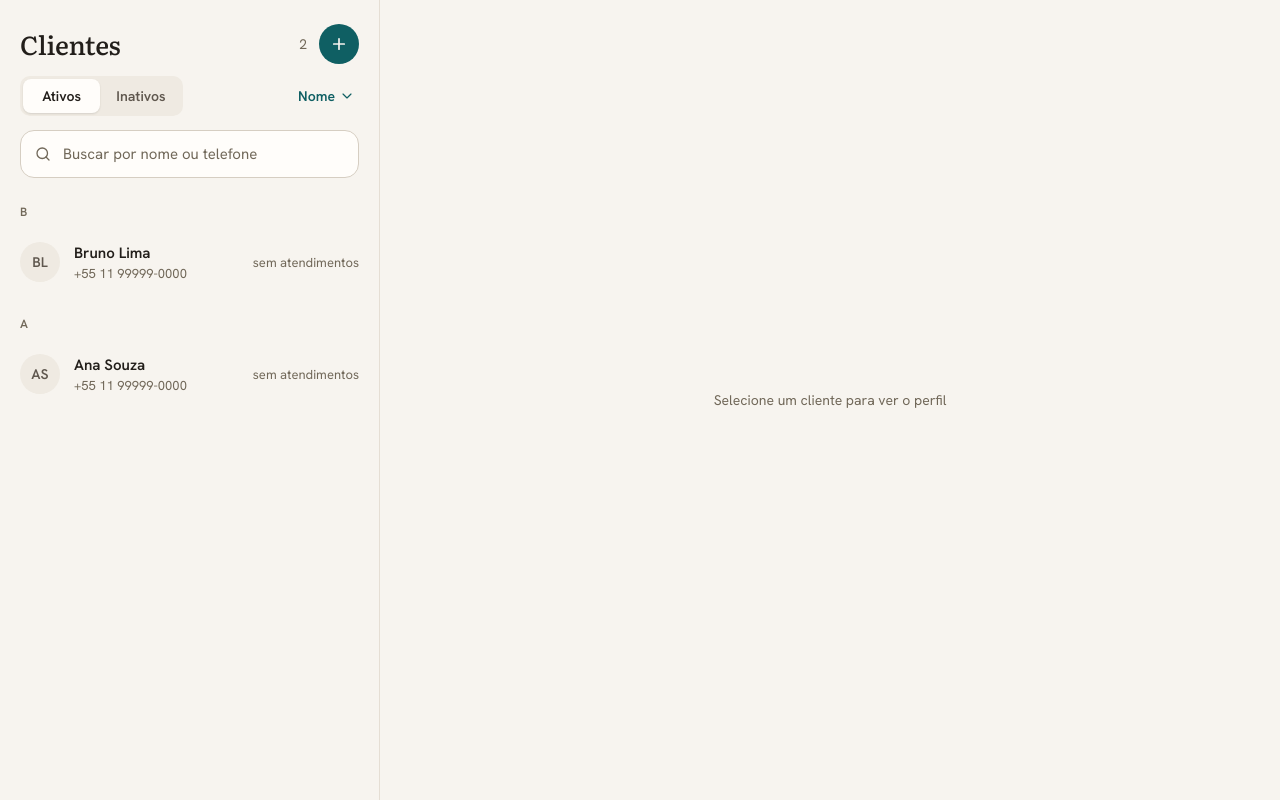
§6.7 separadores por letra em ordem pt-BR › a busca troca os separadores de letra por uma lista plana (CL3)
The image size is (1280, 800).
Expected: the text "B" is shown 2 times, [20,204,28,220]; [20,316,29,332]
Step 1. Type "Bruno" into the search field named "Buscar cliente" → (190, 154), box [20,130,359,178]
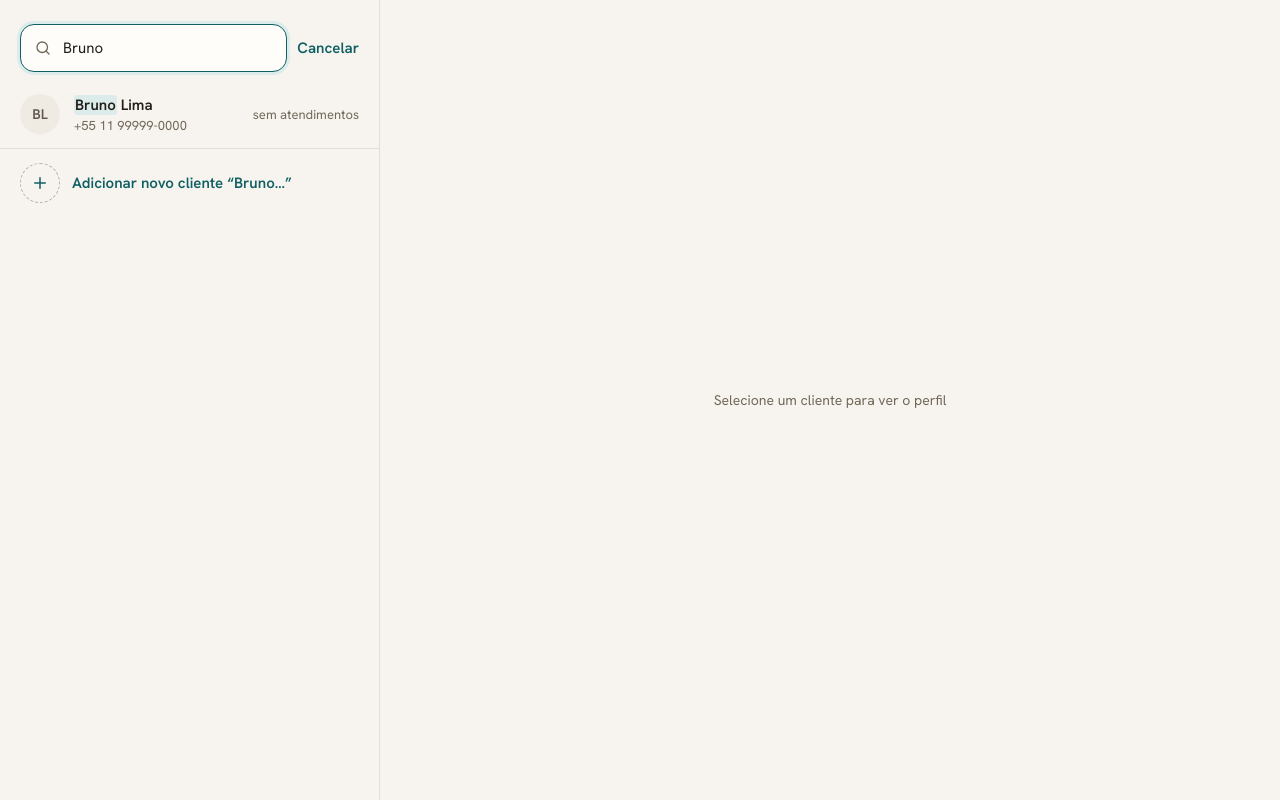
Expected: the link "BL Bruno Lima +55 11 99999-0000 sem atendimentos" is shown, [20,94,359,134]
Result: the link "Ana Souza" is gone
